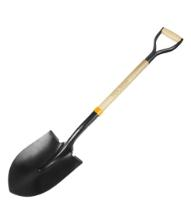PELLE: (0, 14, 191, 217)
